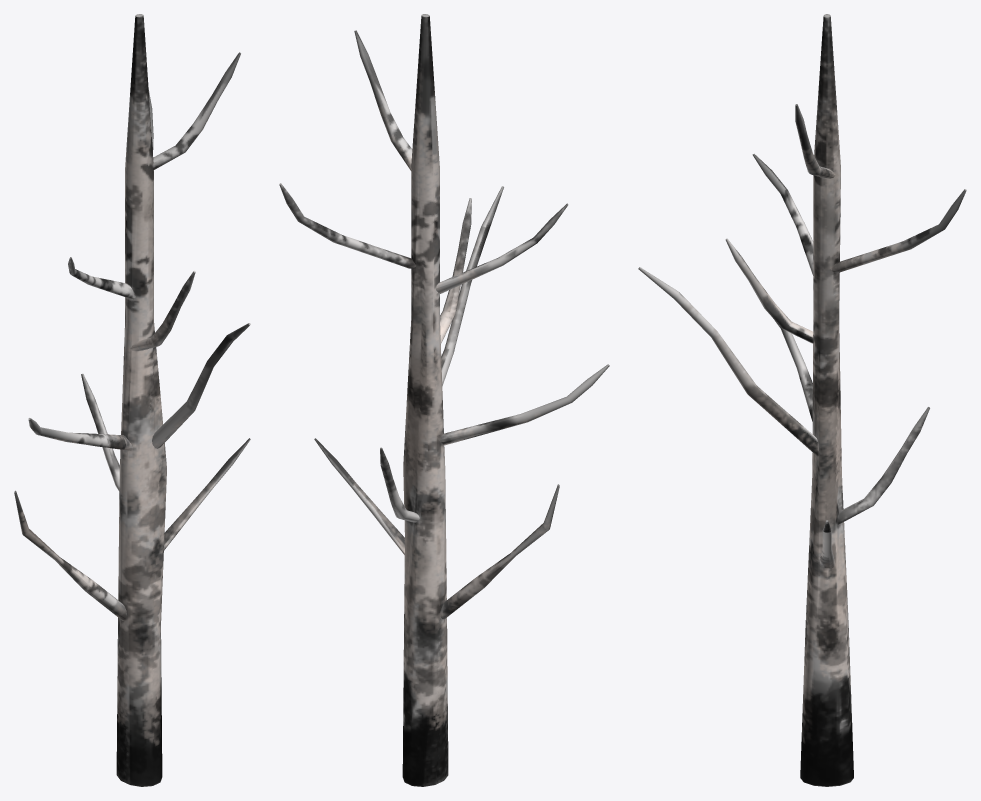
File: tree2.obj
3 views of the same model, side by side, from view 1: azimuth 30°, elevation 25°; view 2: azimuth 150°, elevation 25°; view 3: azimuth 270°, elevation 25° (orthographic).
Parts seen in each view (by area): view 1: Cylinder001; view 2: Cylinder001; view 3: Cylinder001.
Boxes of the visible parts, x1,y1,x2,y2 form: Cylinder001: (14,14,250,786); Cylinder001: (279,14,609,786); Cylinder001: (638,14,966,786).
Bounding box in the file's own units: 28.96 × 81.43 × 31.82.
1 material, 1 textured.
